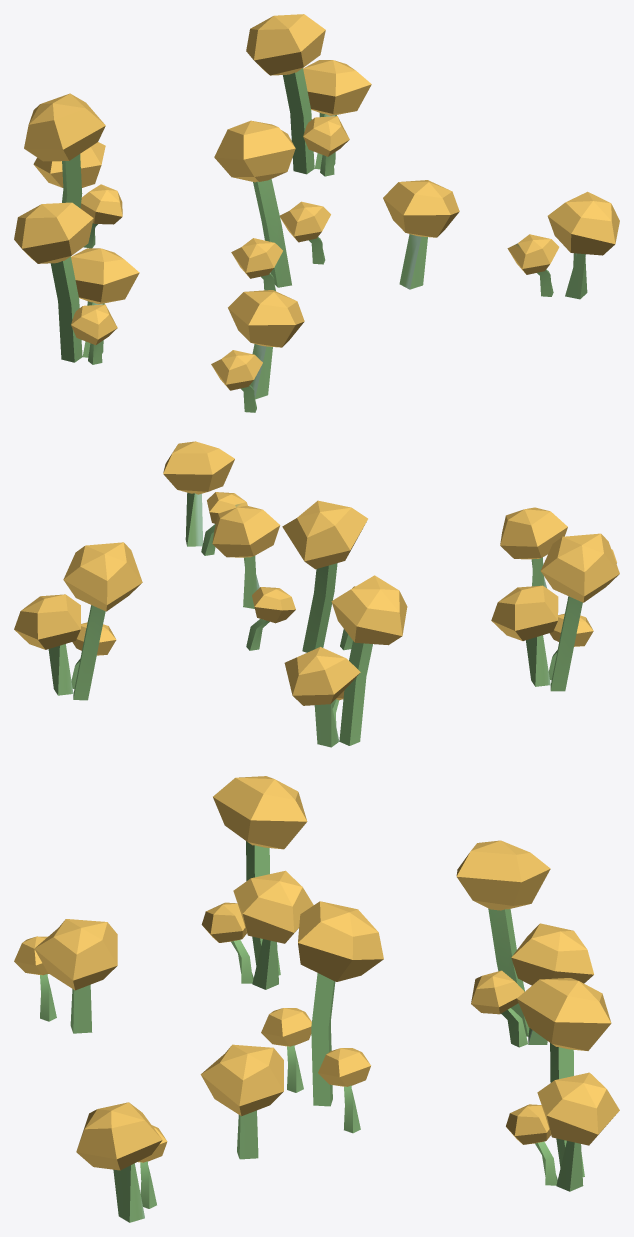
File: SM_Tile_Orange_flowers.fbx
The picture shows the model from 3 angles, top to bottom: view 1: azimuth 30°, elevation 25°; view 2: azimuth 150°, elevation 25°; view 3: azimuth 270°, elevation 25°; orthographic projection. The views are drawn at different scales.
Parts seen in each view (by area): view 1: SM_Flowers_Orange; view 2: SM_Flowers_Orange; view 3: SM_Flowers_Orange.
Boxes of the visible parts, x1,y1,x2,y2 form: SM_Flowers_Orange: (14,14,619,412); SM_Flowers_Orange: (14,441,619,747); SM_Flowers_Orange: (14,776,619,1222).
Bounding box in the file's own units: 86.47 × 24.44 × 74.86.
1 material, 1 textured.
